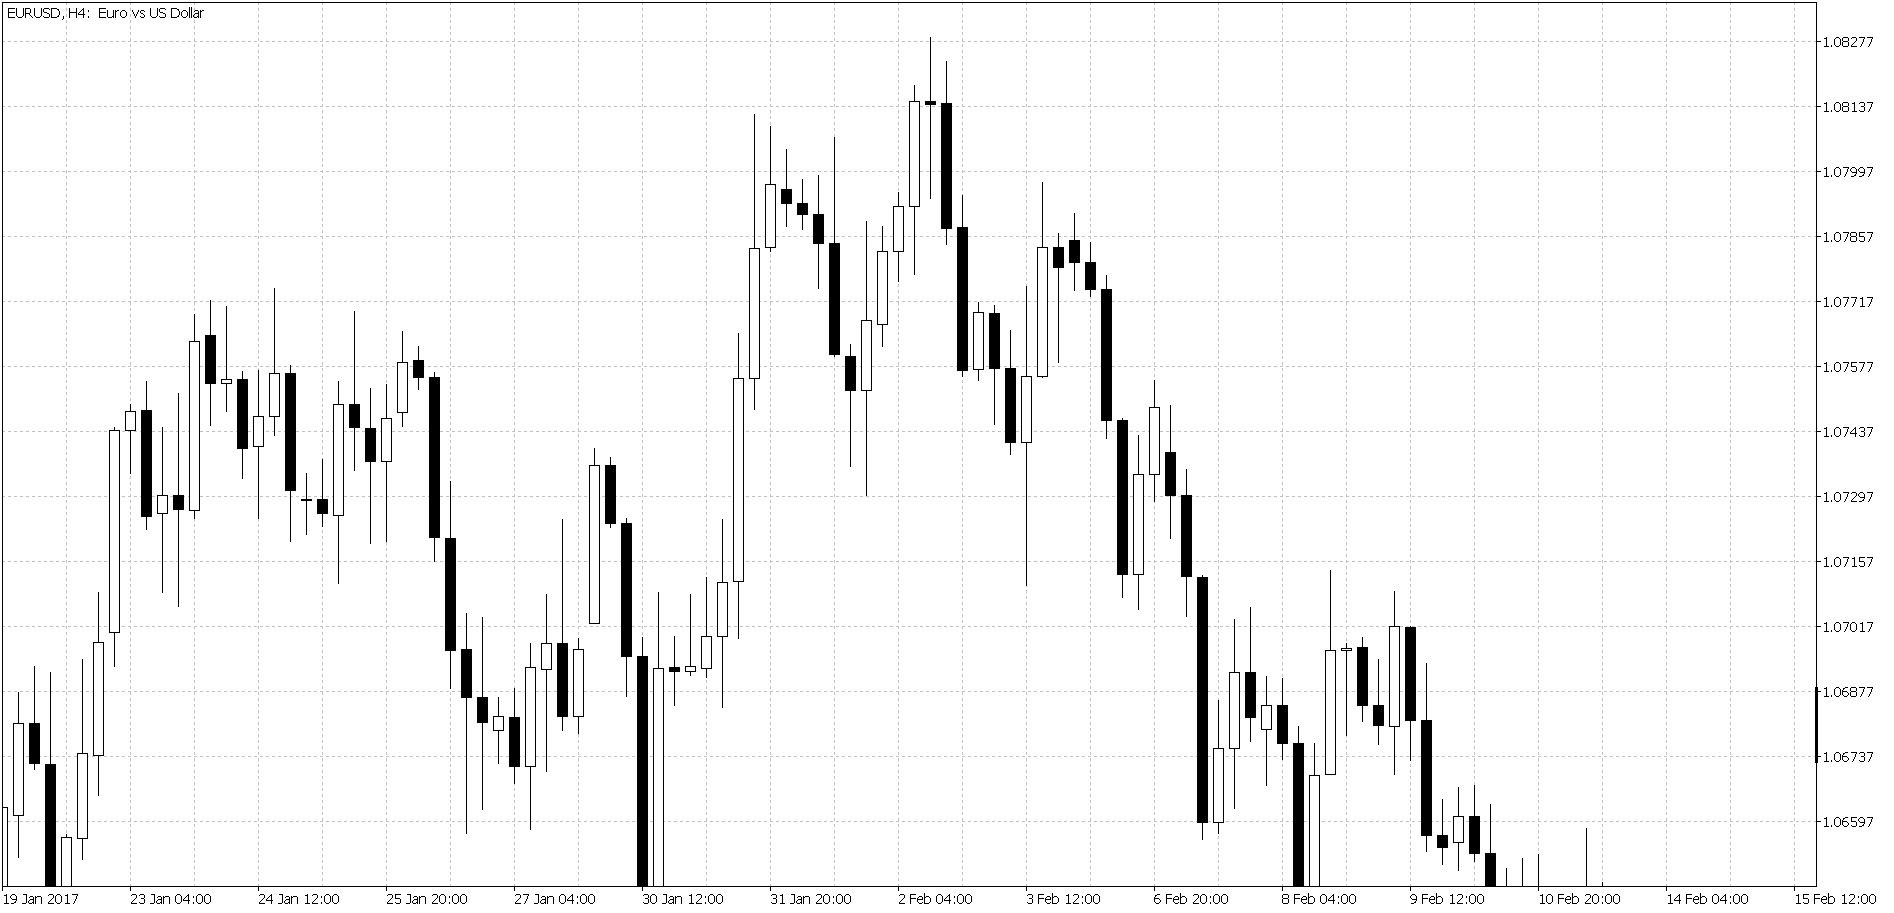eveningDojiStar: (1322, 582, 1372, 793)
headAndShoulders: (727, 31, 1134, 441)
